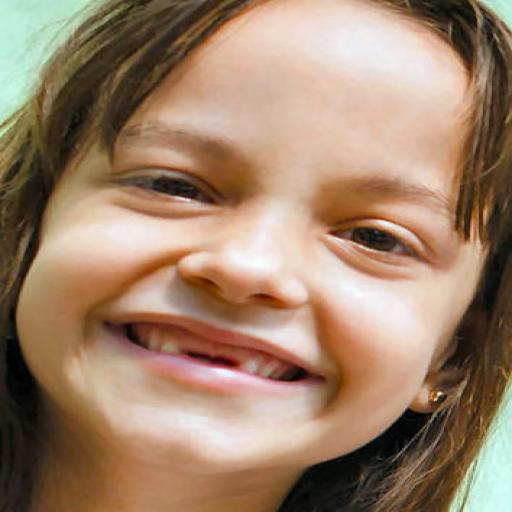Autism: (4, 11, 512, 497)
